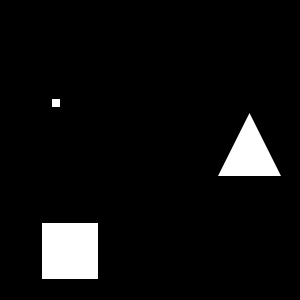circle: (42, 223, 98, 279), (52, 99, 60, 107)
triangle: (218, 113, 281, 176)
